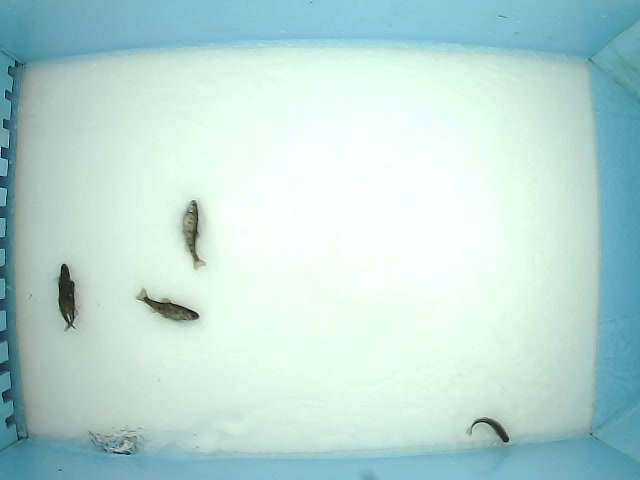fish: (135, 287, 201, 323), (180, 198, 208, 272), (54, 262, 76, 331), (465, 415, 511, 444), (63, 280, 77, 331)
